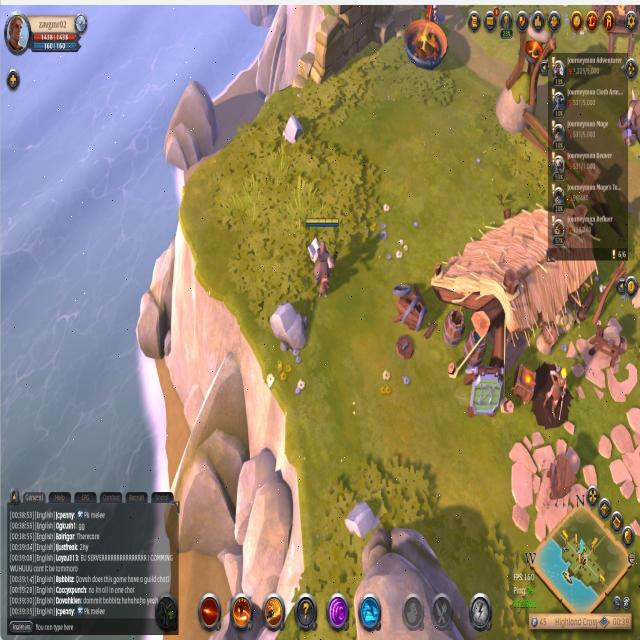stone: (270, 295, 310, 357), (342, 495, 382, 544), (279, 111, 305, 147)
